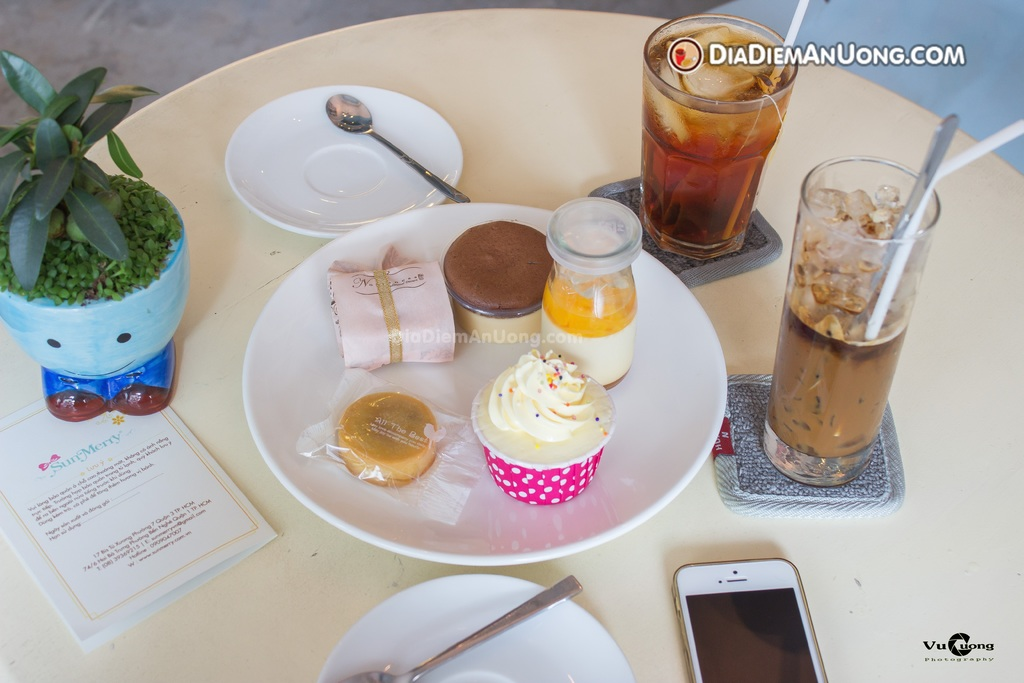plate: (226, 78, 456, 240)
